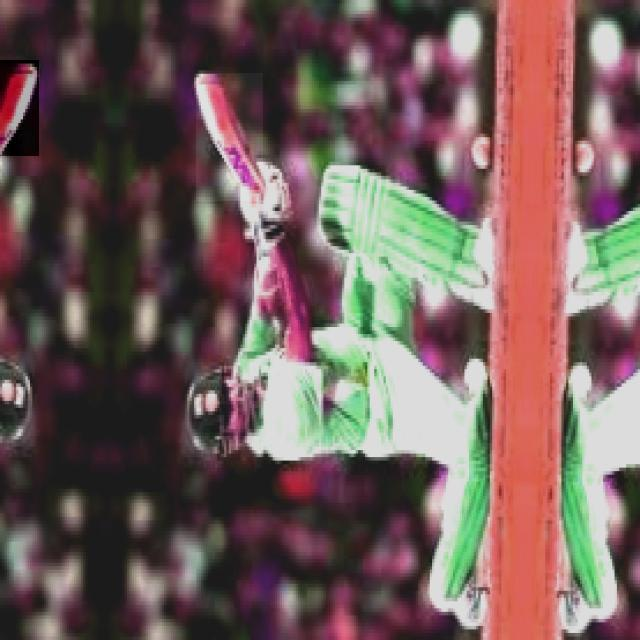bat: (190, 66, 269, 201)
toe: (190, 69, 229, 85)
